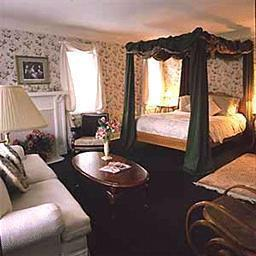Cama: (128, 89, 254, 158)
